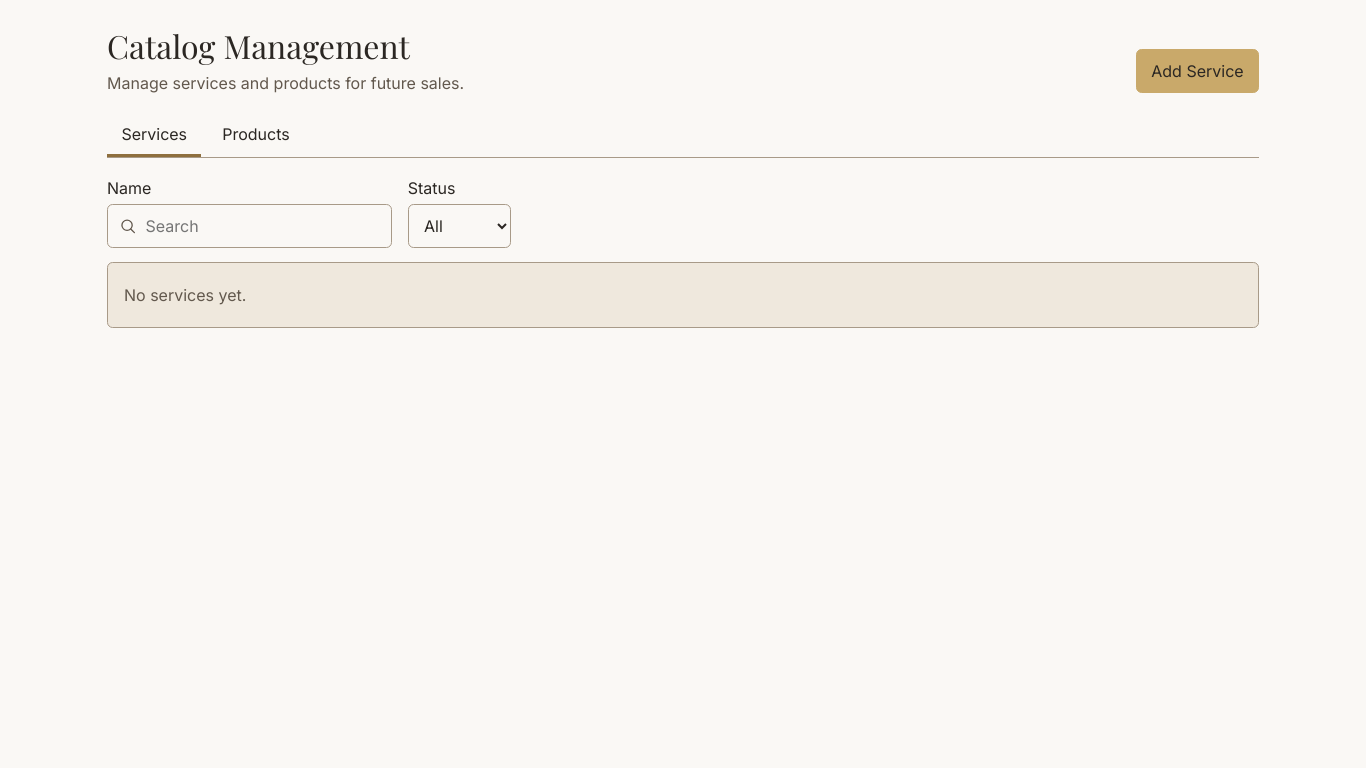
Test: shows an inactive current rule on an inactive item and allows unrelated edits without reassignment
The width and height of the screenshot is (1366, 768).
Expected: the text "No services yet." is shown, [124,285,246,305]
Click the button "Products".
click(256, 135)  # box [208,113,304,157]
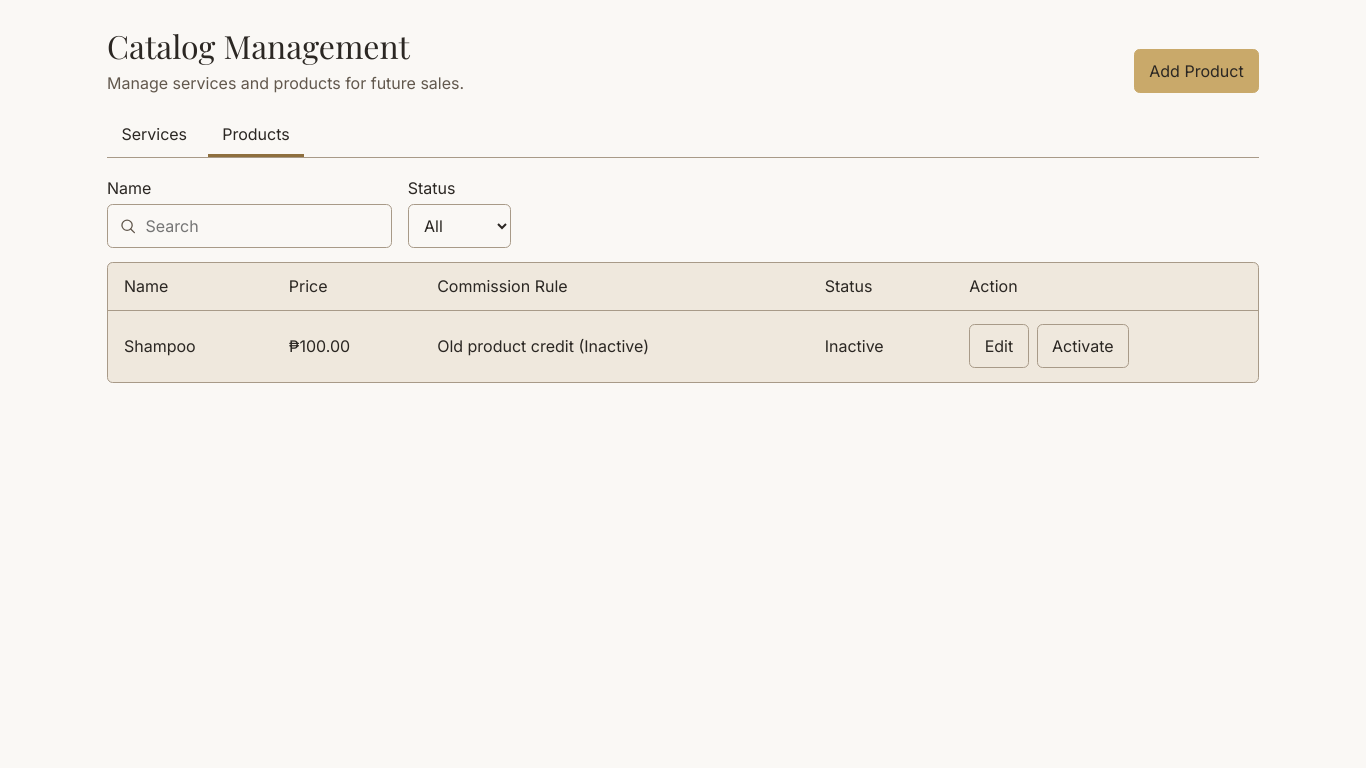
Now the text "Old product credit (Inactive)" is shown, box [421,310,809,382]
Click the button with aria-label "Edit Shampoo".
click(999, 346)  # box [969,324,1029,368]
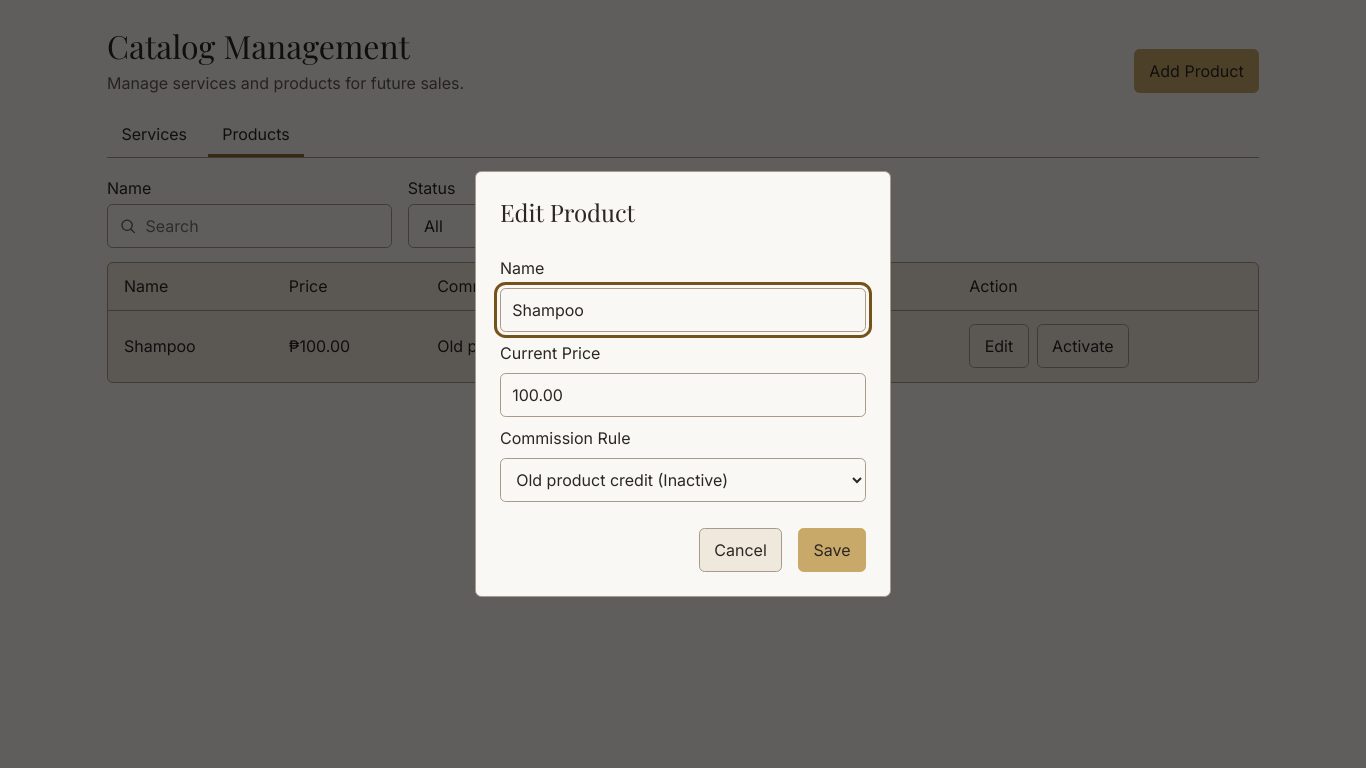
Now the dropdown labelled "Commission Rule" shows "Old product credit (Inactive)", box [500,458,866,502]
Replace the text in the field labelled "Name" with "Shampoo new" at (683, 310), box [500,288,866,332]
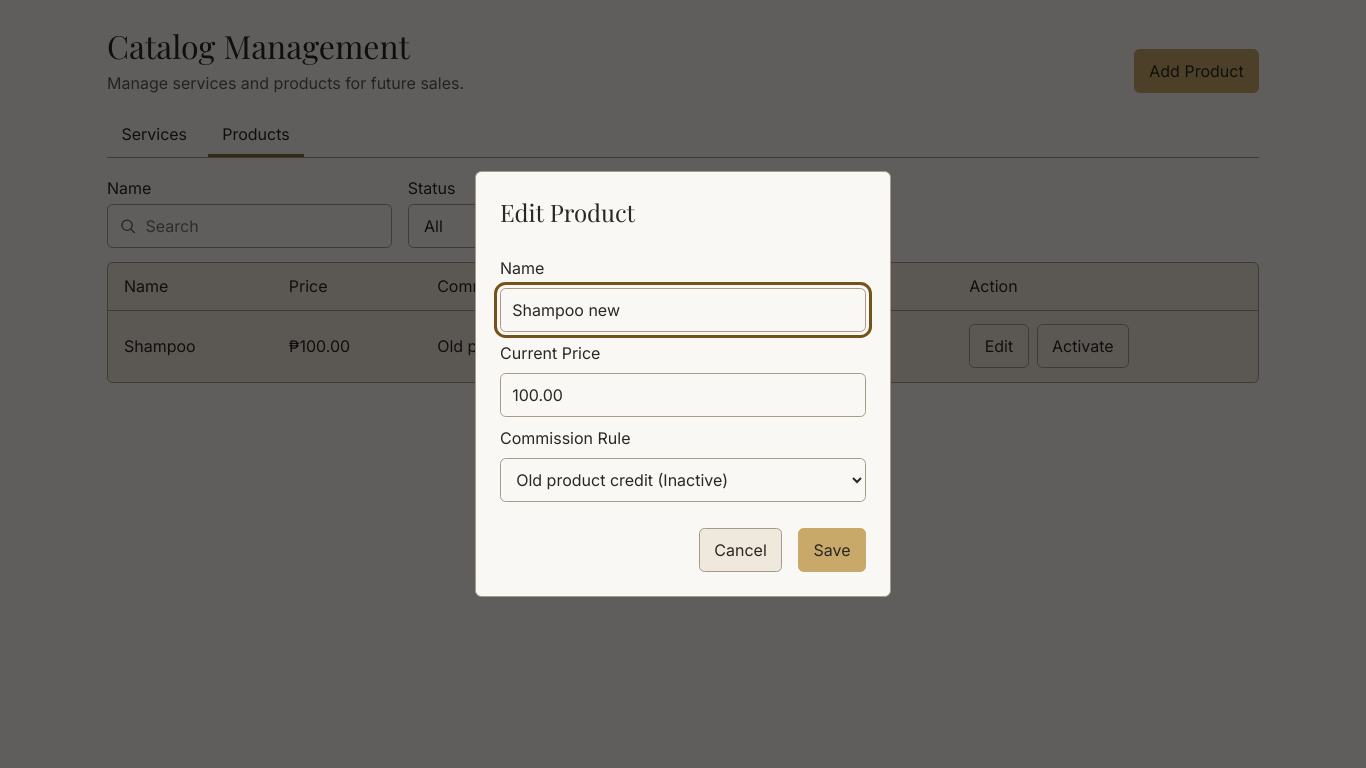
Click the button "Save".
click(832, 550)  # box [798,528,866,572]
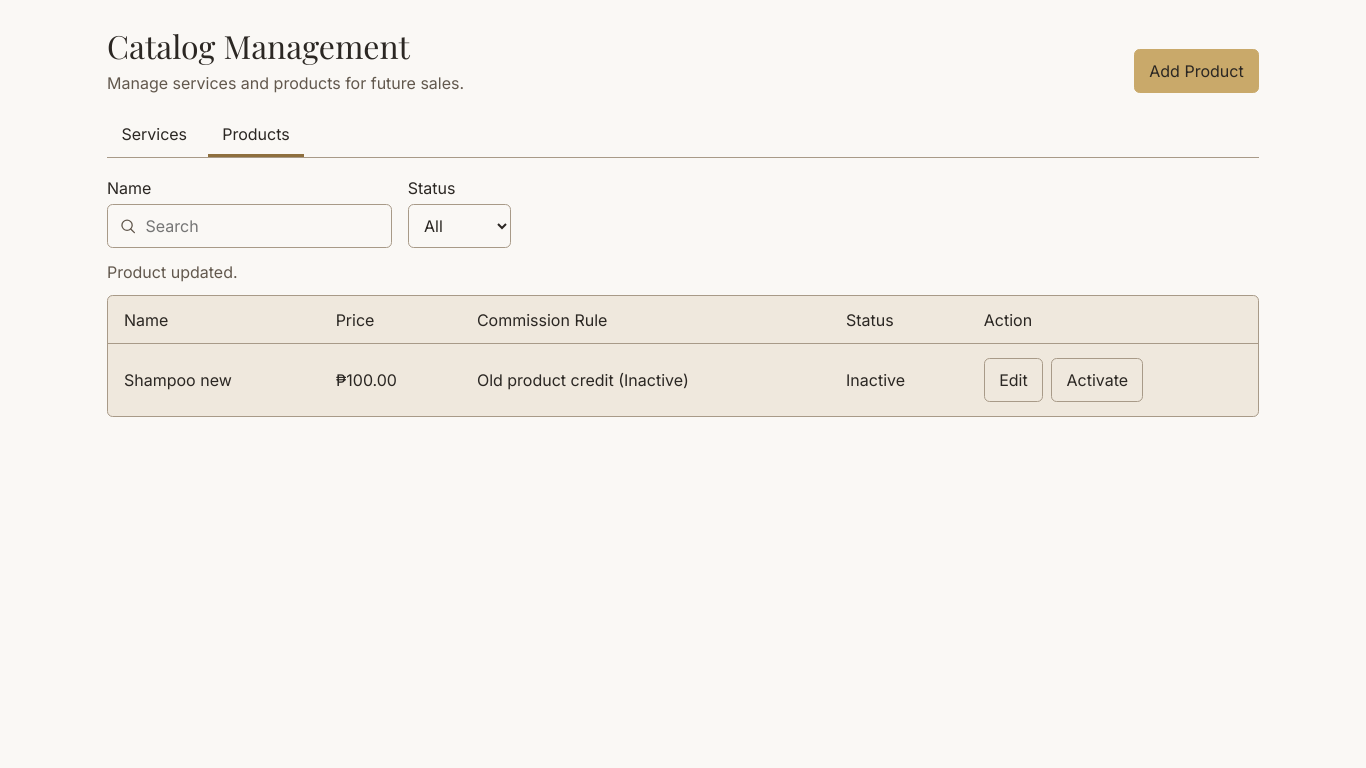
Now the text "Shampoo new" is shown, box [108,344,320,416]
Click the button with aria-label "Activate Shampoo new".
click(1097, 380)  # box [1051,358,1144,402]
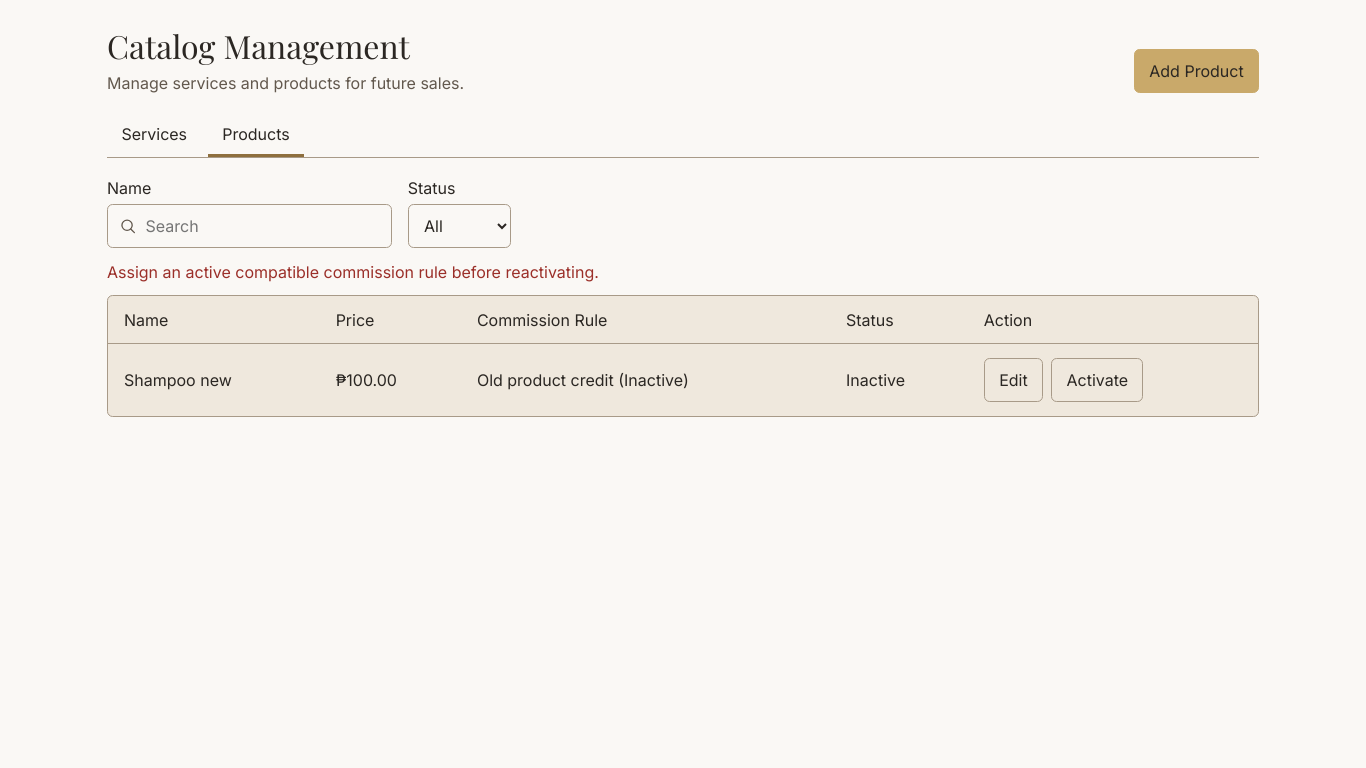
Now the text "Assign an active compatible commission rule before reactivating." is shown, box [107,262,599,282]
